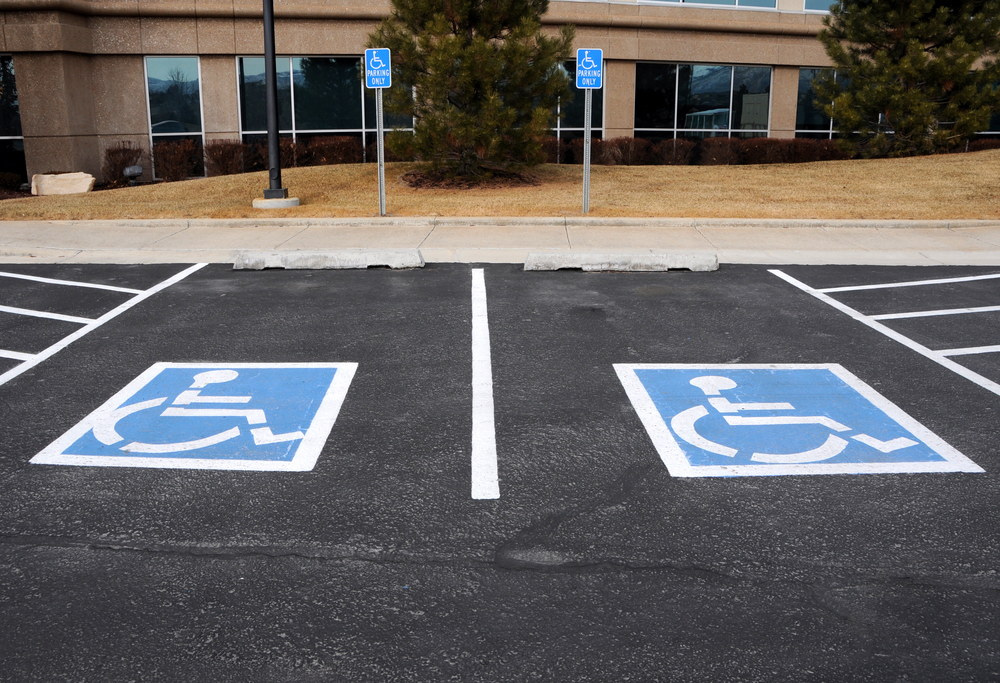empyt_space: (458, 256, 1000, 510), (5, 263, 495, 508)
